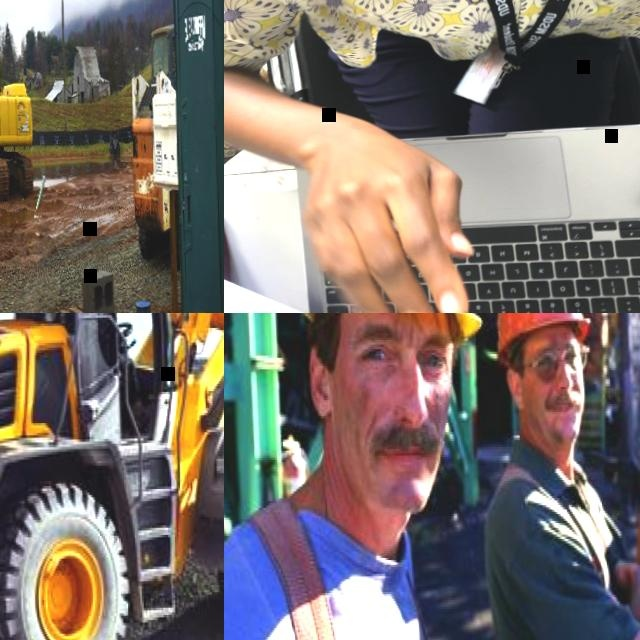Hardhat: (490, 313, 592, 364)
NO-Mask: (332, 415, 449, 516), (525, 388, 588, 443)
NO-Safety Vest: (224, 513, 436, 640), (482, 469, 639, 640), (300, 0, 640, 61)
Person: (224, 0, 640, 313), (224, 313, 494, 640), (473, 313, 640, 640)
machinery: (0, 313, 224, 640), (127, 24, 182, 266)
